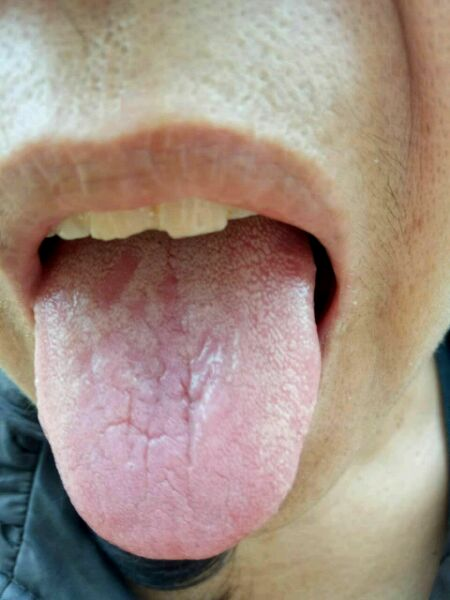baitaishe: (31, 227, 321, 559)
liewenshe: (102, 319, 212, 487)
